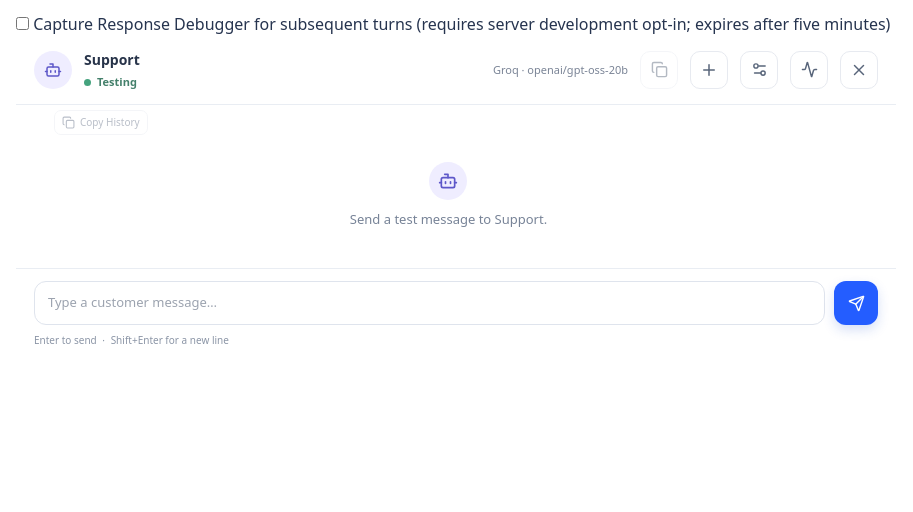
PlaygroundChat › renders an unknown API failure safely without exposing internal response text
Type "Hello" into the text box named "Message your assistant".
click(430, 303); type("Hello")  # box [34, 281, 825, 325]
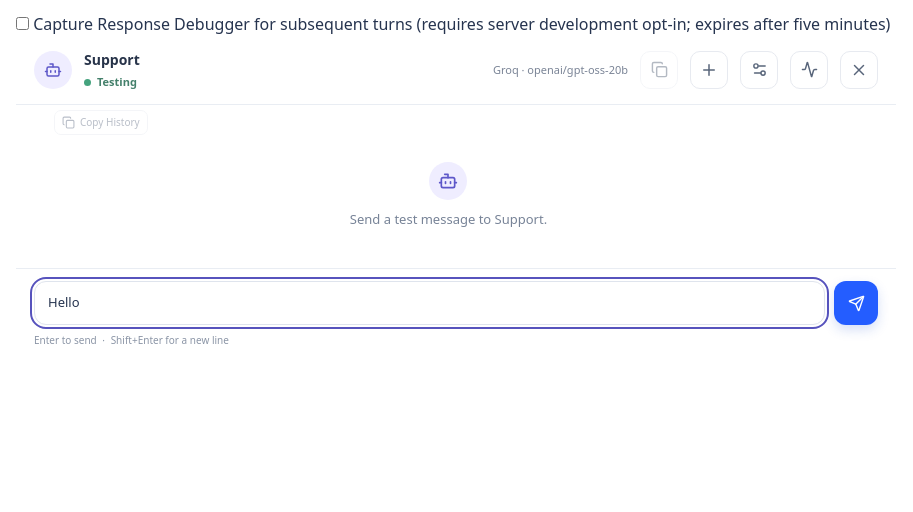
Click the button named "Send message".
click(856, 303)  # box [834, 281, 878, 325]
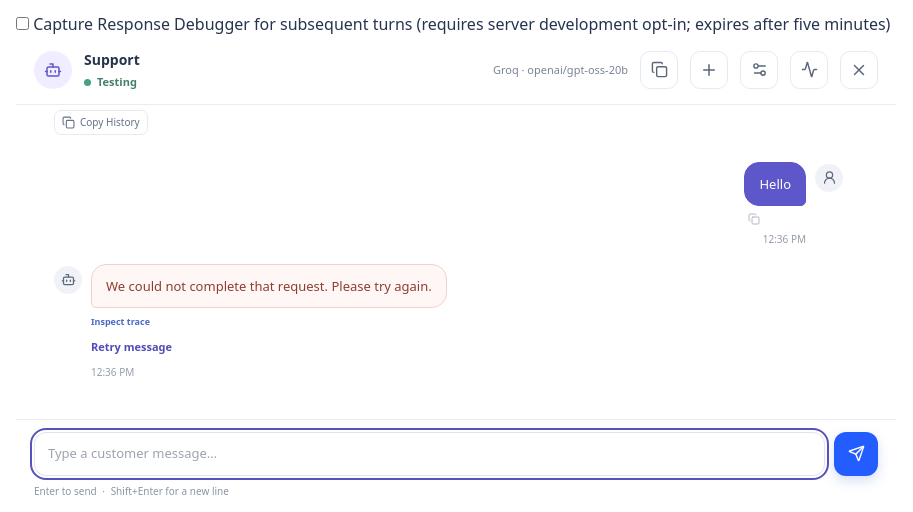
Check: the text "We could not complete that request. Please try again." is shown, box [91, 264, 447, 308]
